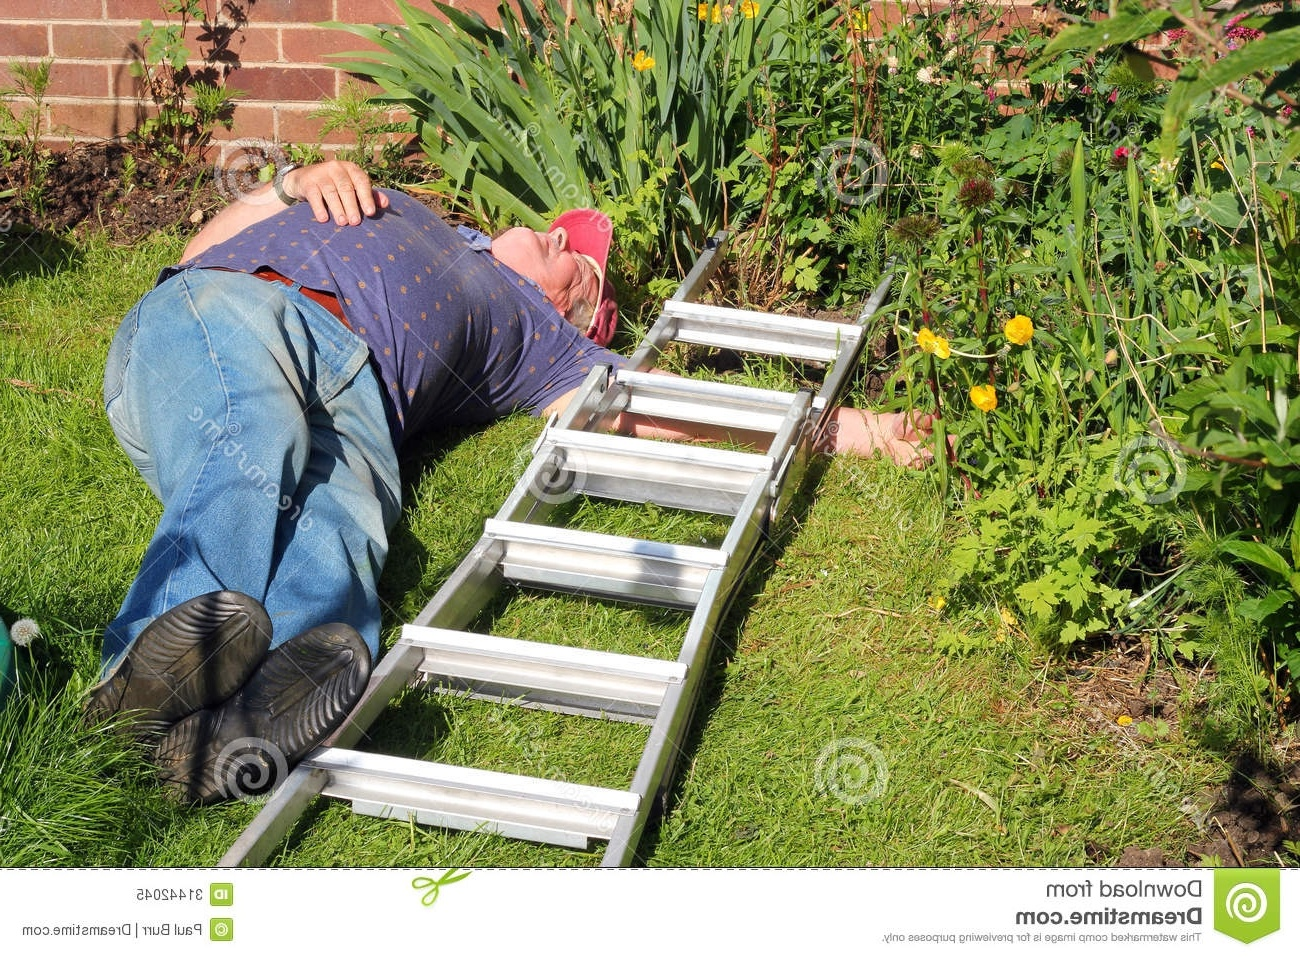fall: (73, 153, 677, 789)
